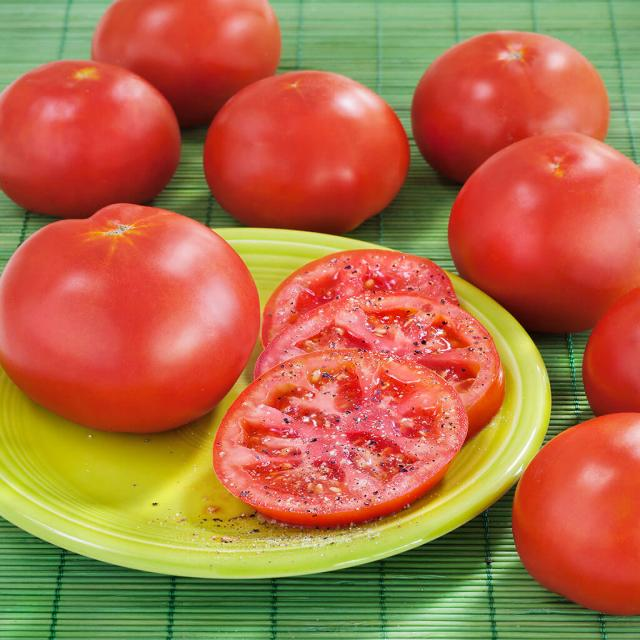tomato: (0, 186, 257, 427), (192, 75, 422, 228), (447, 136, 640, 307), (0, 60, 191, 212)
